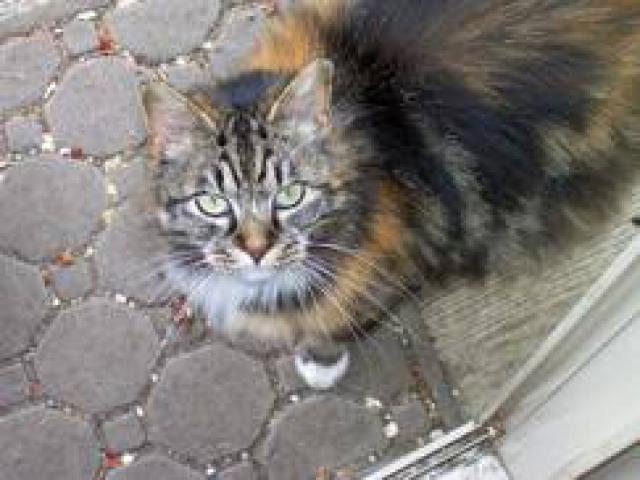cat: (119, 9, 637, 428)
